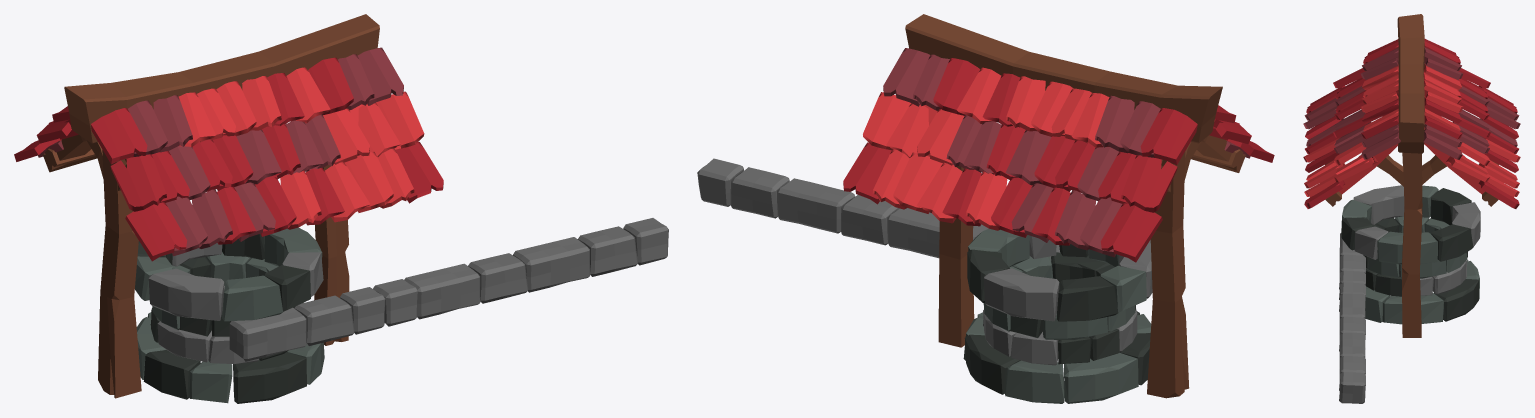
Rendered from LowPolyWell.fbx.
3 renders of one model, left to right at view 1: azimuth 30°, elevation 25°; view 2: azimuth 150°, elevation 25°; view 3: azimuth 270°, elevation 25°, orthographic. The views are drawn at different scales.
Visible parts, largest first — view 1: Cube.003, Cube.006, Cube, Cube.005, Cube.002, Cube.009, Cube.015, Cube.012, Cube.042, Cube.029, Cube.001, Cube.004 (+42 smaller); view 2: Cube.003, Cube.006, Cube, Cube.005, Cube.002, Cube.001, Cube.004, Cube.015, Cube.042, Cube.029, Cube.053, Cube.012 (+38 smaller); view 3: Cube.003, Cube.006, Cube.004, Cube, Cube.002, Cube.001, Cube.007, Cube.045, Cube.021, Cube.017, Cube.019, Cube.052 (+42 smaller).
Part boxes in pixels (x1,y1,x2,y2): Cube.003: (135,227,323,321); Cube.006: (64,14,379,143); Cube: (136,312,324,403); Cube.005: (98,150,141,398); Cube.002: (152,252,303,336); Cube.009: (229,307,306,361); Cube.015: (513,237,590,292); Cube.012: (404,263,480,319); Cube.042: (36,119,166,211); Cube.029: (14,138,187,261); Cube.001: (150,285,288,364); Cube.004: (314,165,349,345); Cube.003: (967,228,1152,321); Cube.006: (905,14,1222,143); Cube: (963,311,1151,403); Cube.005: (1147,151,1189,398); Cube.002: (983,252,1135,339); Cube.001: (983,309,1137,365); Cube.004: (938,166,974,347); Cube.015: (777,178,855,233); Cube.042: (1121,119,1251,212); Cube.029: (1100,139,1274,262); Cube.053: (1140,105,1236,165); Cube.012: (887,208,939,258); Cube.003: (1341,185,1480,264); Cube.006: (1397,14,1424,153); Cube.004: (1401,152,1422,337); Cube: (1365,259,1479,324); Cube.002: (1363,216,1467,278); Cube.001: (1365,260,1467,296); Cube.007: (1339,127,1484,194); Cube.045: (1361,131,1462,159); Cube.021: (1304,180,1519,208); Cube.017: (1339,372,1365,403); Cube.019: (1377,155,1446,186); Cube.052: (1362,97,1461,123).
Size of what is drawn, in the model's own units: 665 by 359 by 310.
